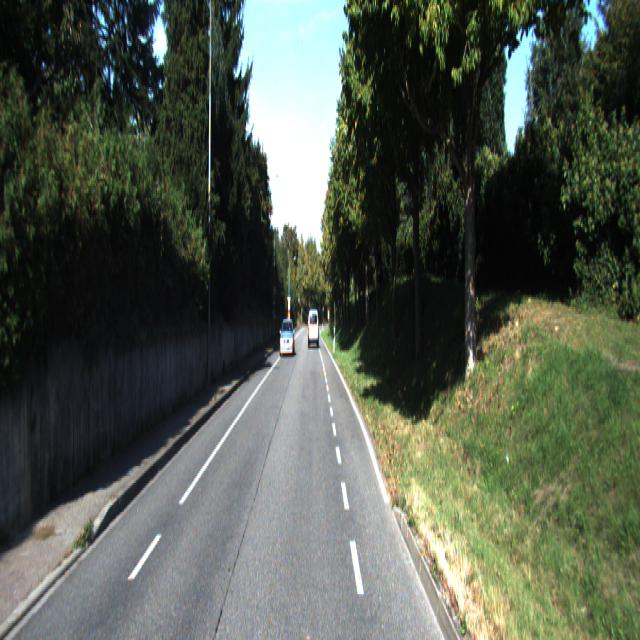Car: (278, 318, 294, 358), (307, 309, 320, 350)
